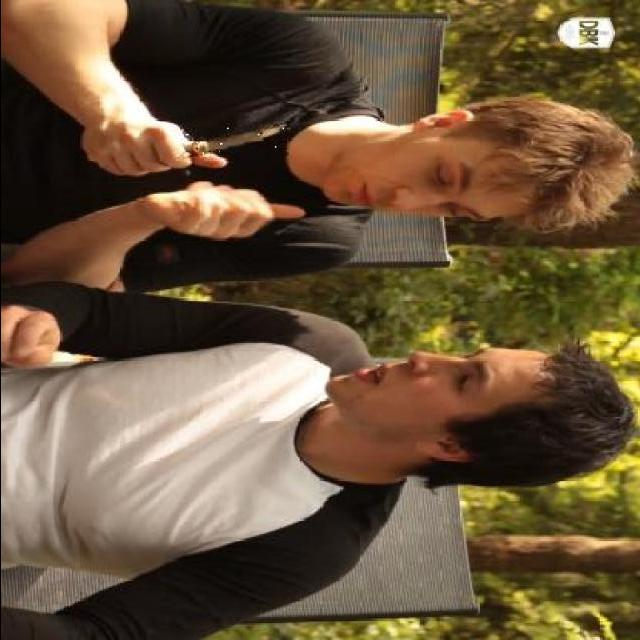Knife: (86, 122, 288, 180)
